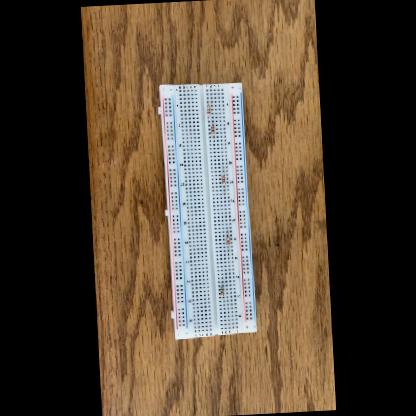breadboard: (158, 80, 256, 338)
resistor: (222, 175, 226, 185), (206, 106, 210, 115), (226, 237, 230, 245), (220, 287, 223, 296), (211, 125, 214, 134)
wire: (222, 164, 224, 174), (221, 280, 223, 286), (222, 296, 224, 301), (223, 184, 224, 194), (227, 228, 228, 236), (228, 246, 229, 254), (208, 115, 209, 121), (213, 134, 214, 140), (212, 120, 213, 125), (207, 102, 208, 104)
